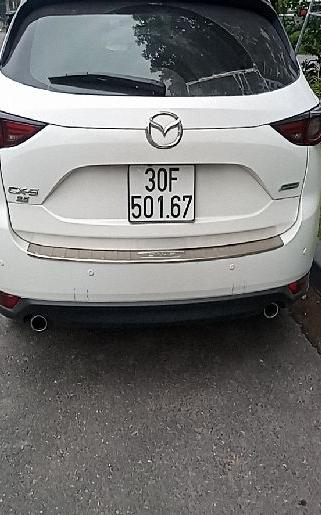Plate-iWeP: (129, 166, 195, 221)
